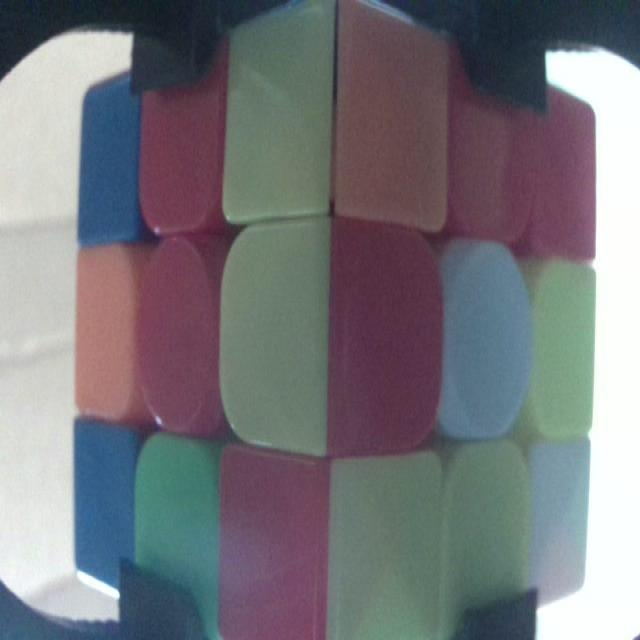b: (74, 424, 131, 584), (82, 93, 137, 238)
g: (136, 442, 220, 628)
o: (340, 2, 446, 226), (77, 250, 136, 422)
r: (331, 219, 440, 451), (220, 450, 326, 640), (137, 242, 218, 443), (453, 45, 533, 247), (142, 67, 220, 231), (536, 99, 594, 254)
w: (444, 242, 528, 448), (529, 442, 585, 600)
y: (222, 231, 324, 454), (332, 461, 437, 640), (227, 34, 326, 214), (437, 448, 529, 637), (530, 254, 592, 432)
